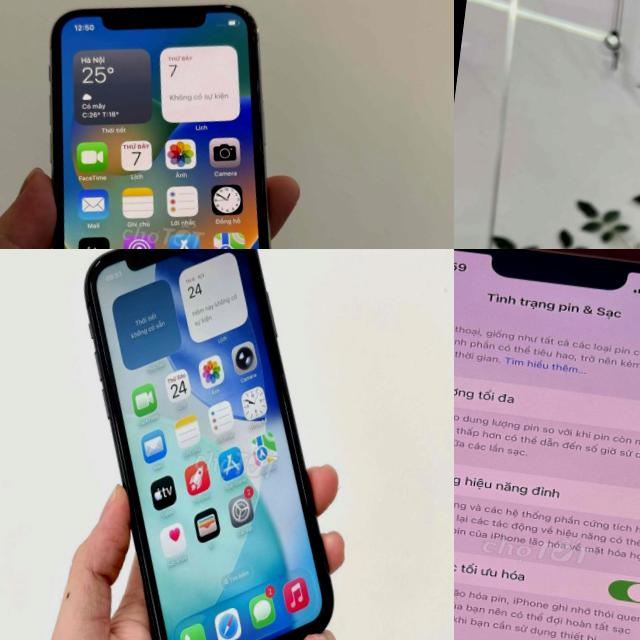gen_11: (30, 249, 382, 640)
gen_12_13: (454, 249, 640, 640)
gen_x_xs: (0, 0, 329, 249)
